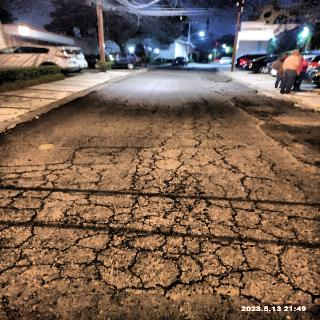alligator-crack: (2, 136, 320, 304)
